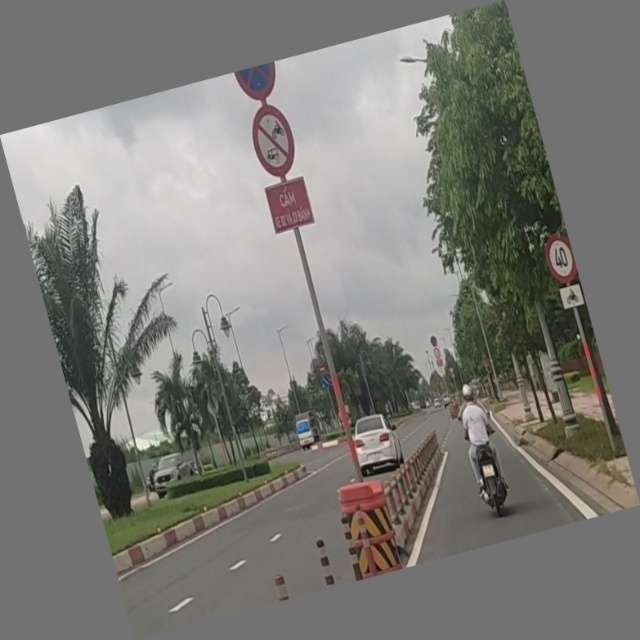P.111: (239, 100, 301, 181)
P.127*40: (541, 230, 580, 287)
S.505a*Xe may: (557, 281, 586, 309)
